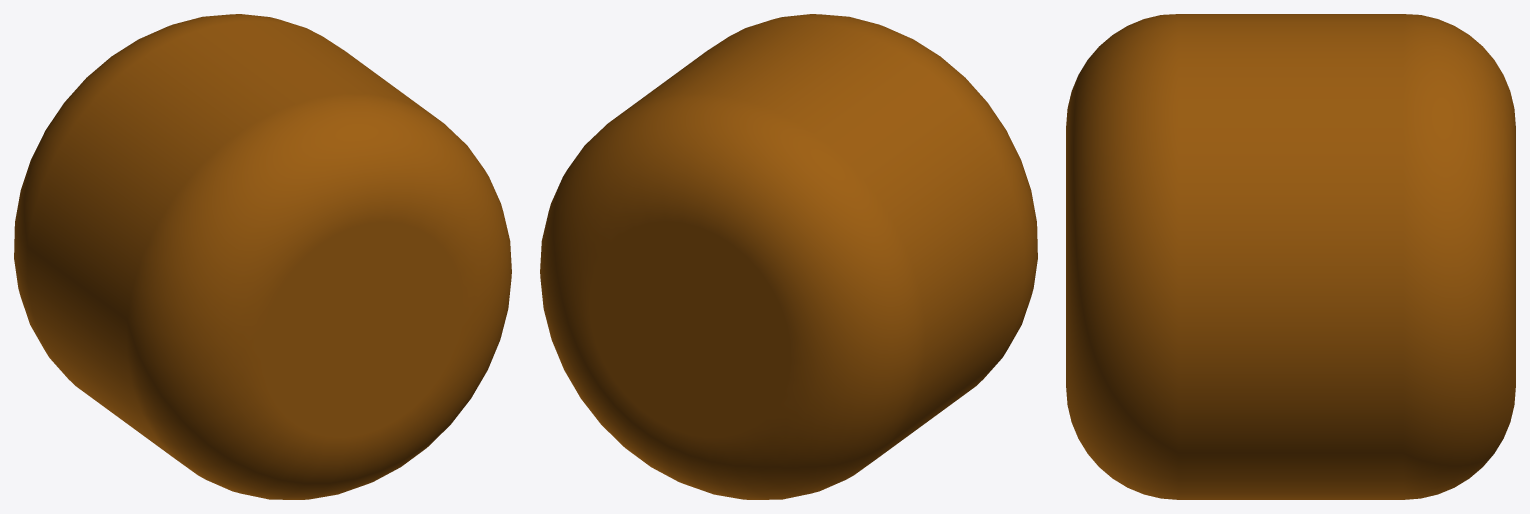
File: caster_wheel.dae
3 renders of one model, left to right at view 1: azimuth 30°, elevation 25°; view 2: azimuth 150°, elevation 25°; view 3: azimuth 270°, elevation 25°, orthographic. The views are drawn at different scales.
Parts seen in each view (by area): view 1: Part 3; view 2: Part 3; view 3: Part 3.
Boxes of the visible parts, x1,y1,x2,y2 form: Part 3: (14,14,511,499); Part 3: (540,14,1037,499); Part 3: (1066,14,1515,499).
Size of the model in its own units: 0.013 by 0.012 by 0.013.
